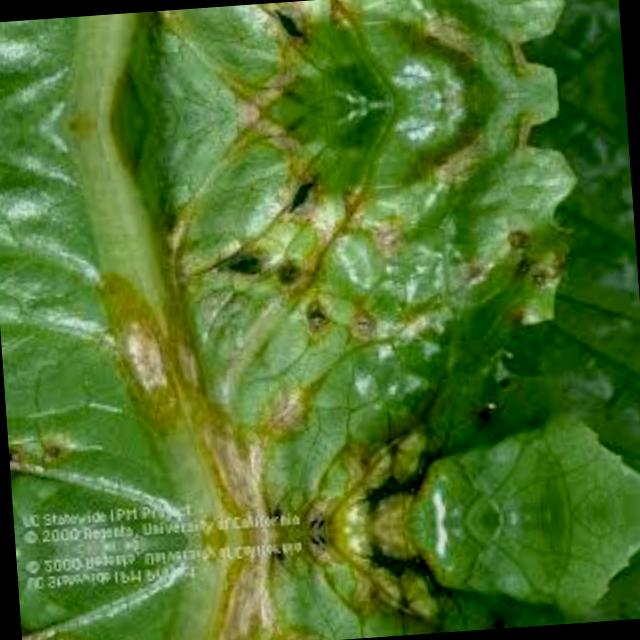Lettuce - Anthracnose: (0, 86, 640, 552), (15, 507, 640, 640), (0, 0, 624, 130)
